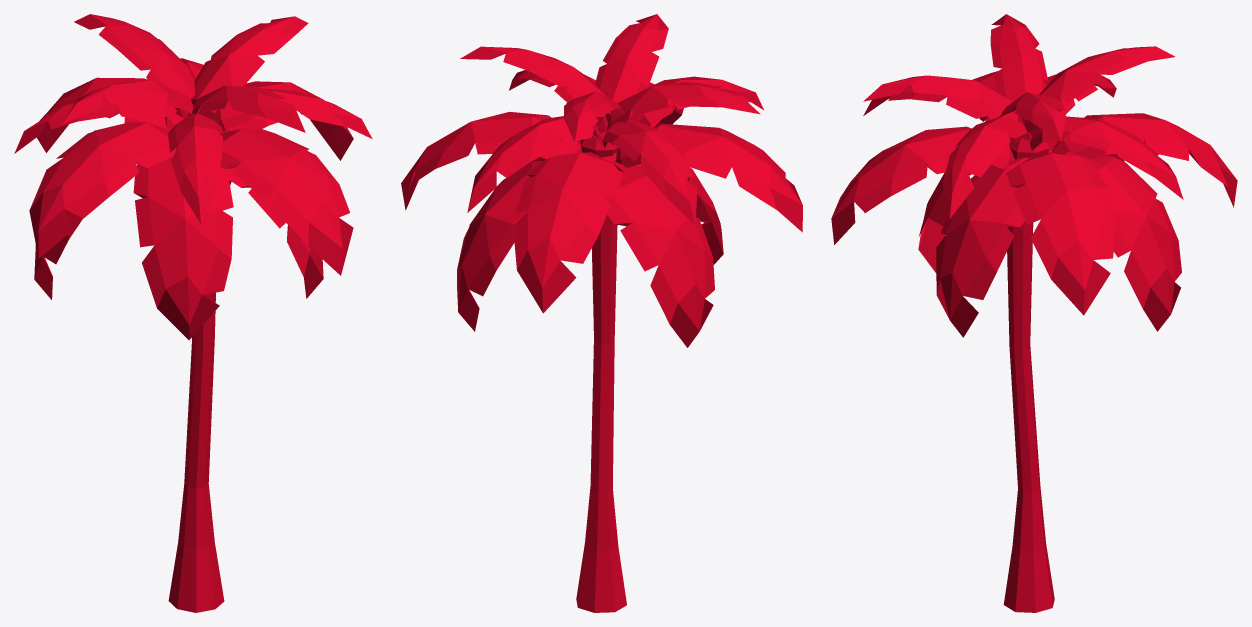
The model's file is palma.fbx.
3 views of the same model, side by side, from view 1: azimuth 30°, elevation 25°; view 2: azimuth 150°, elevation 25°; view 3: azimuth 270°, elevation 25° (orthographic). The views are drawn at different scales.
Parts seen in each view (by area): view 1: Nature Stuff; view 2: Nature Stuff; view 3: Nature Stuff.
Boxes of the visible parts, x1=… form: Nature Stuff: x1=14, y1=14, x2=372, y2=612; Nature Stuff: x1=401, y1=14, x2=802, y2=612; Nature Stuff: x1=831, y1=14, x2=1237, y2=612.
Bounding box in the file's own units: 1849 × 2721 × 1865.
